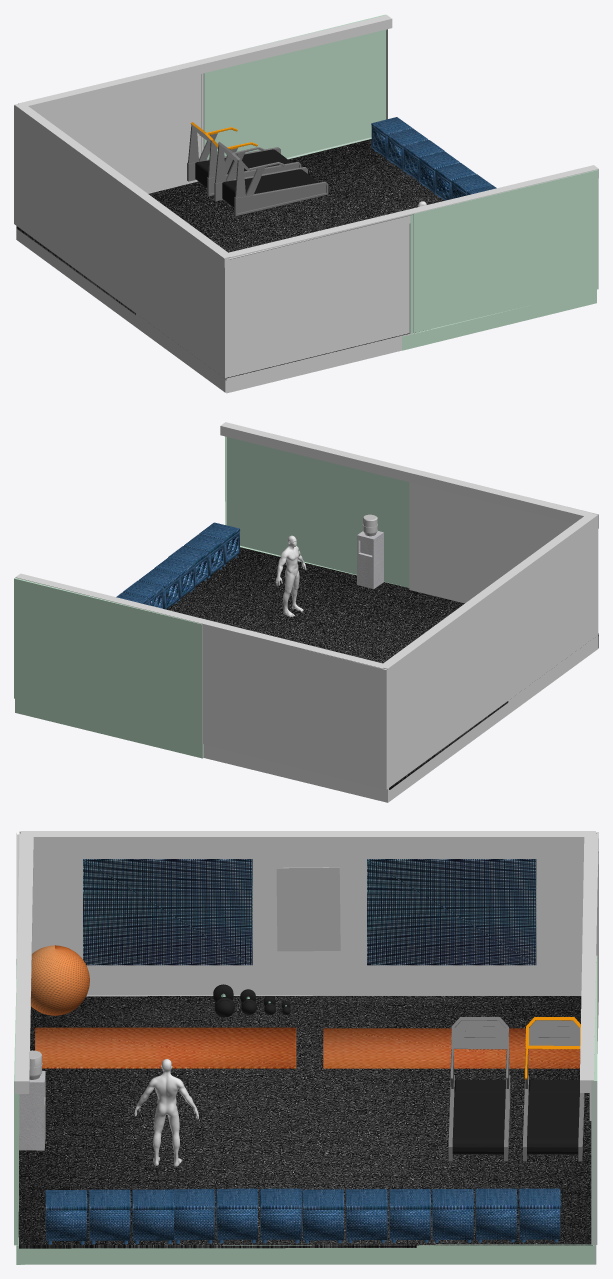
Rendered from Gymroom.fbx.
3 views of the same model, one above another, from view 1: azimuth 30°, elevation 25°; view 2: azimuth 150°, elevation 25°; view 3: azimuth 270°, elevation 25° (orthographic). The views are drawn at different scales.
Visible parts, largest first — view 1: Room, Room.001, Blanket, Room.003, Cube Lamp.001, Cube Lamp, Cube Lamp.002, Cube.007, Cube.003, Cube.005, Cube, Cube.006 (+1 smaller); view 2: Room.001, Room.003, Room, Blanket, Cube Lamp.002, Cube Lamp, Cube Lamp.001, Cube.001, Cube.002, Cube.008, FinalBaseMesh; view 3: Blanket, Room, Plane.003, Plane.002, Room.001, Blanket.002, Cube Lamp, Blanket.001, Cube.001, Cube.003, Cube.005, Cube.002 (+11 smaller).
Boxes of the visible parts, x1=… form: Room: x1=16, y1=73, x2=413, y2=393; Room.001: x1=201, y1=14, x2=598, y2=350; Blanket: x1=16, y1=139, x2=444, y2=380; Room.003: x1=14, y1=104, x2=226, y2=392; Cube Lamp.001: x1=18, y1=15, x2=392, y2=112; Cube Lamp: x1=15, y1=104, x2=229, y2=267; Cube Lamp.002: x1=225, y1=165, x2=598, y2=260; Cube.007: x1=214, y1=142, x2=328, y2=215; Cube.003: x1=371, y1=117, x2=444, y2=183; Cube.005: x1=419, y1=151, x2=491, y2=200; Cube: x1=187, y1=122, x2=301, y2=196; Cube.006: x1=222, y1=169, x2=318, y2=207; Room.001: x1=14, y1=436, x2=409, y2=758; Room.003: x1=202, y1=482, x2=574, y2=802; Room: x1=388, y1=500, x2=598, y2=787; Blanket: x1=166, y1=547, x2=598, y2=789; Cube Lamp.002: x1=220, y1=422, x2=592, y2=522; Cube Lamp: x1=383, y1=513, x2=597, y2=677; Cube Lamp.001: x1=15, y1=573, x2=387, y2=668; Cube.001: x1=168, y1=522, x2=240, y2=589; Cube.002: x1=123, y1=557, x2=194, y2=609; Cube.008: x1=357, y1=531, x2=383, y2=589; FinalBaseMesh: x1=275, y1=535, x2=306, y2=616; Blanket: x1=18, y1=996, x2=592, y2=1248; Room: x1=16, y1=831, x2=591, y2=1120; Plane.003: x1=367, y1=859, x2=536, y2=965; Plane.002: x1=83, y1=859, x2=252, y2=965; Room.001: x1=14, y1=955, x2=597, y2=1264; Blanket.002: x1=35, y1=1027, x2=296, y2=1068; Cube Lamp: x1=21, y1=831, x2=595, y2=849; Blanket.001: x1=323, y1=1028, x2=580, y2=1068; Cube.001: x1=45, y1=1189, x2=174, y2=1244; Cube.003: x1=431, y1=1188, x2=560, y2=1242; Cube.005: x1=302, y1=1189, x2=431, y2=1243; Cube.002: x1=173, y1=1188, x2=301, y2=1243.
Bounding box in the file's own units: 1686 × 579 × 1664.
